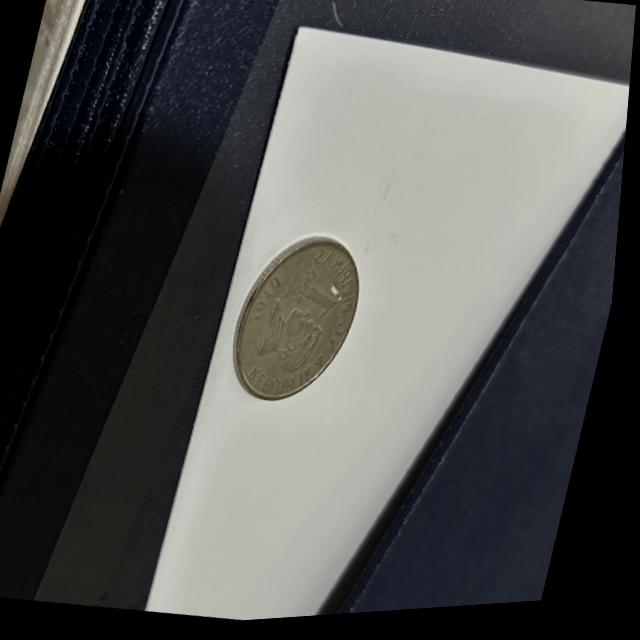1_Old_Front: (289, 266, 353, 327)
